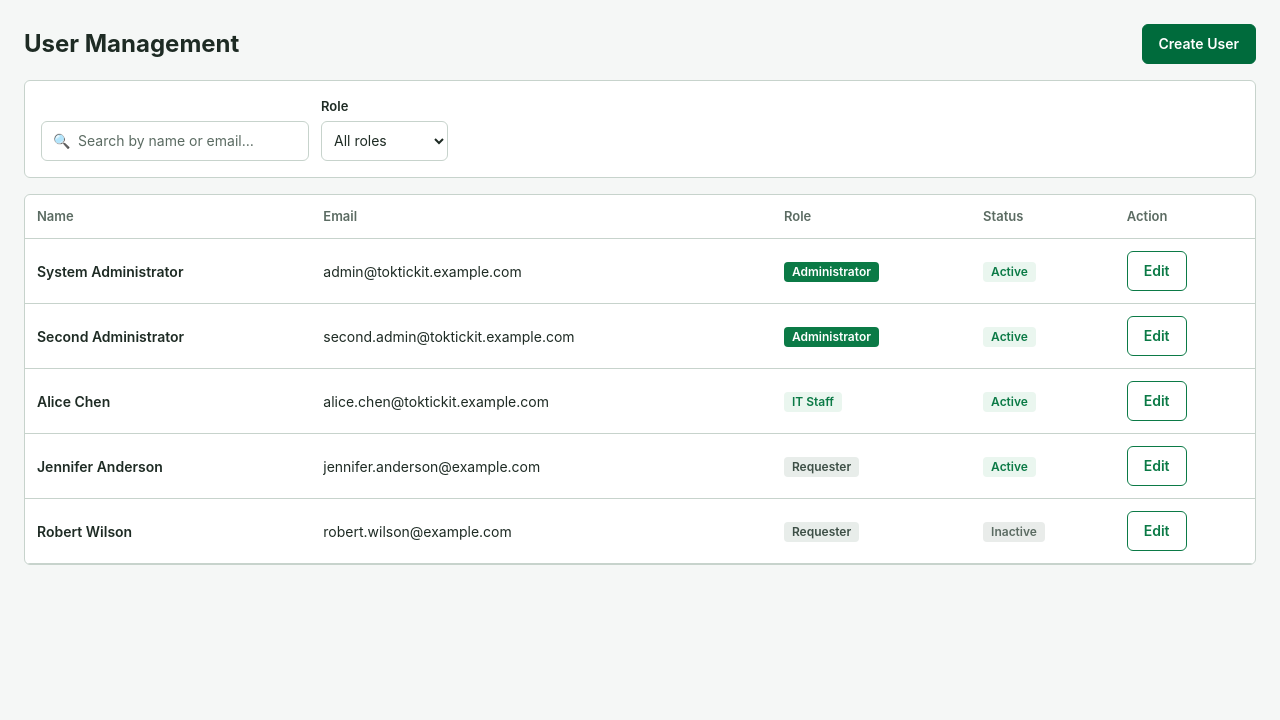
Test: UI-08 — User Management list, search, filter and modals (ui-spec §7) › opens the Create User modal in the Idle state with every required field
Expected: the element with test id "users-table" is shown, [24,194,1256,565]
Click the button with test id "create-user-button".
click(1199, 44)  # box [1142,24,1256,64]
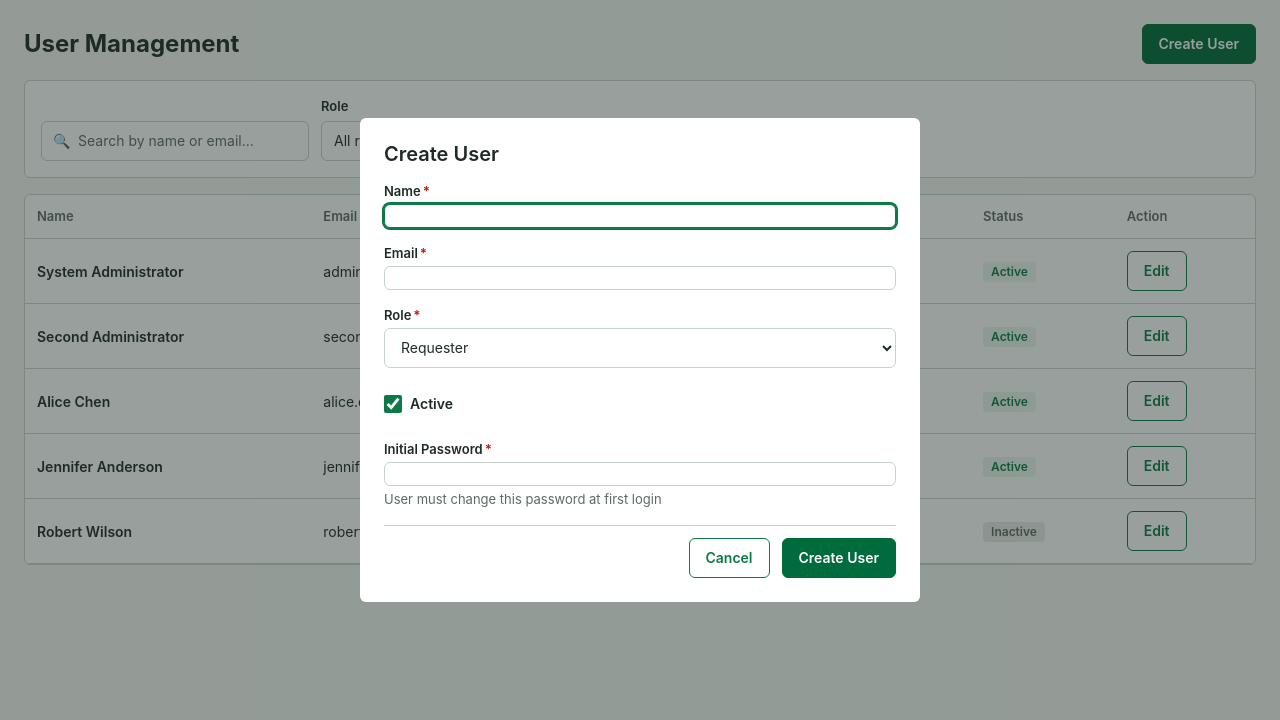
Now the heading "Create User" is shown, box [384,142,499,166]
Now the field labelled "Name*" is shown, box [384,204,896,228]
Now the field labelled "Email*" is shown, box [384,266,896,290]
